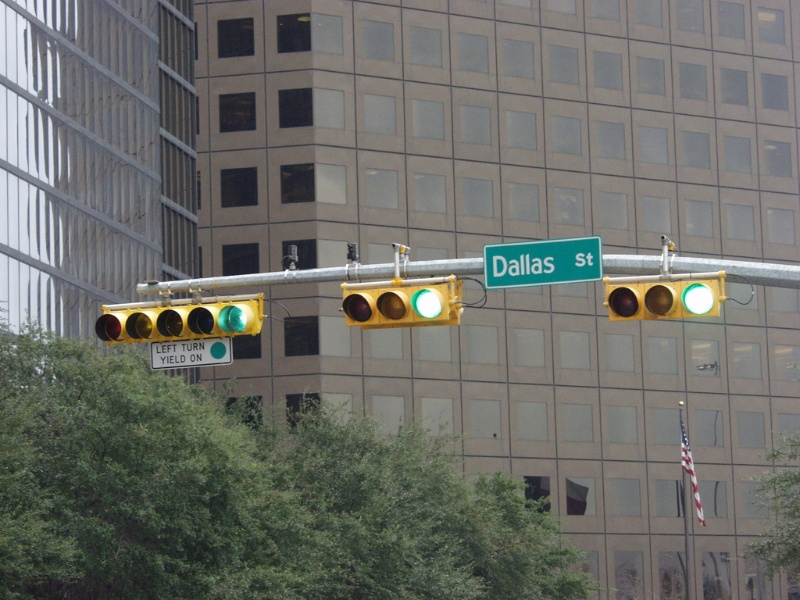green_light: (675, 272, 723, 320), (405, 281, 450, 322), (213, 297, 254, 340)
